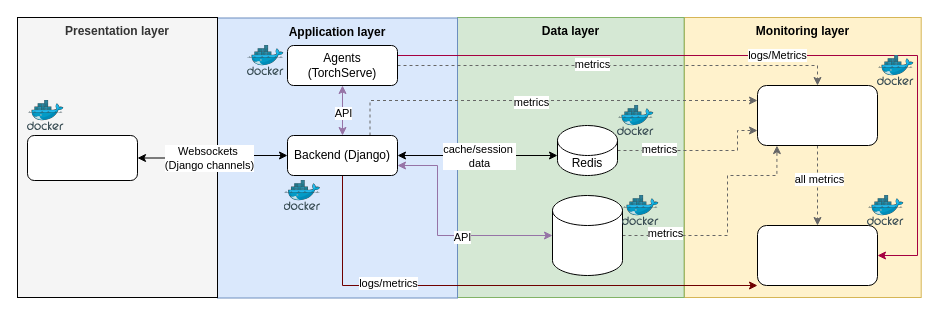
Some shapes in this 943 by 316 pixel diagram are drawn without their labels. The centre of each missing label's shape, as x and y in pixels:
"DB (postgre)" belongs at (587,235).
"Front end (React/Typescript)" belongs at (82,157).
"Monitoring (Grafana +Loki+Promtail)" belongs at (817,255).
"Prometheus" belongs at (817,115).
